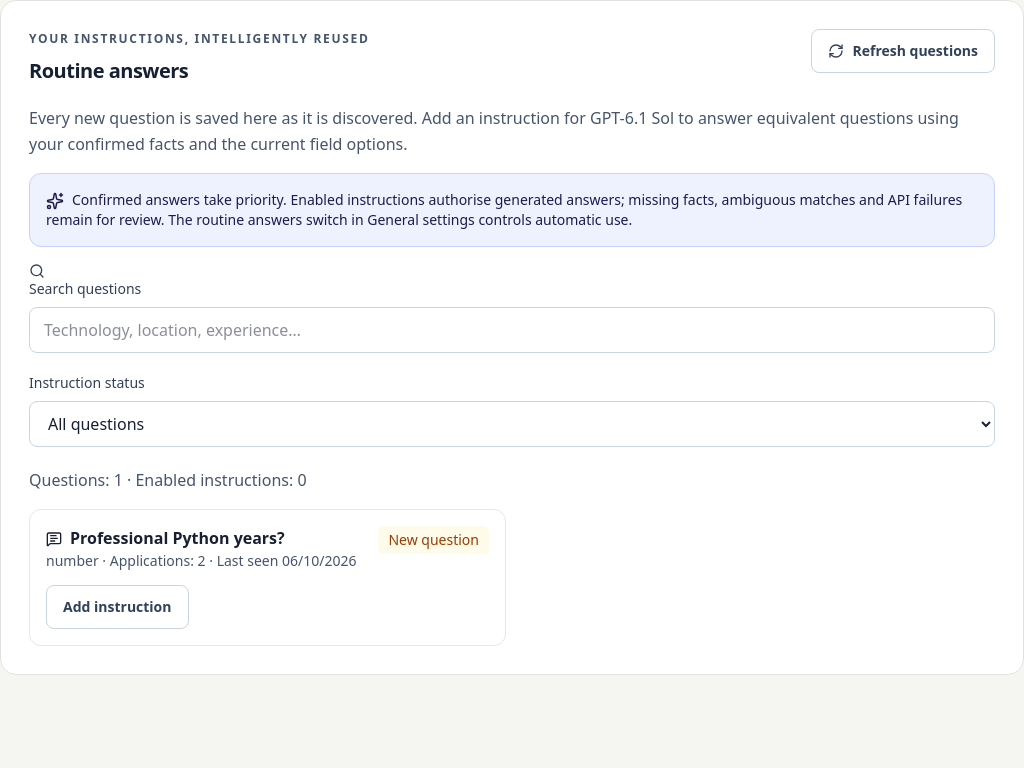
Test: displays missing-fact guidance while leaving explicit save under candidate control
Click the button "Add instruction".
click(117, 606)  # box [46, 584, 188, 628]
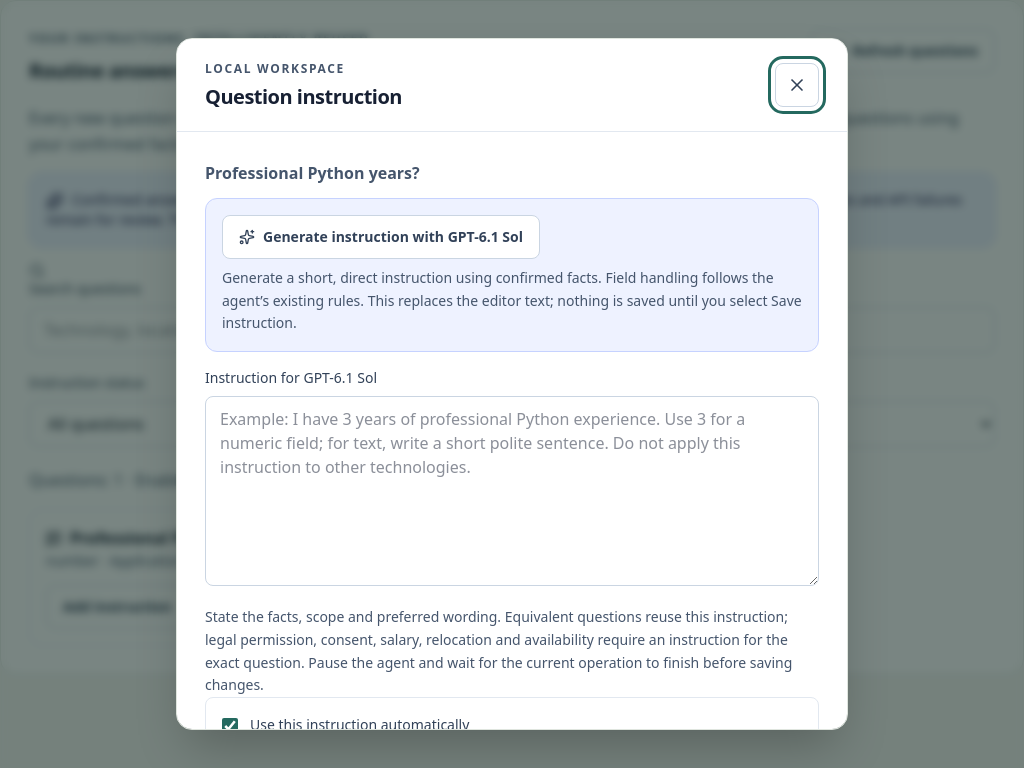
Click the button "Generate instruction with GPT-6.1 Sol".
click(381, 237)  # box [222, 215, 540, 259]
(page scrolled)
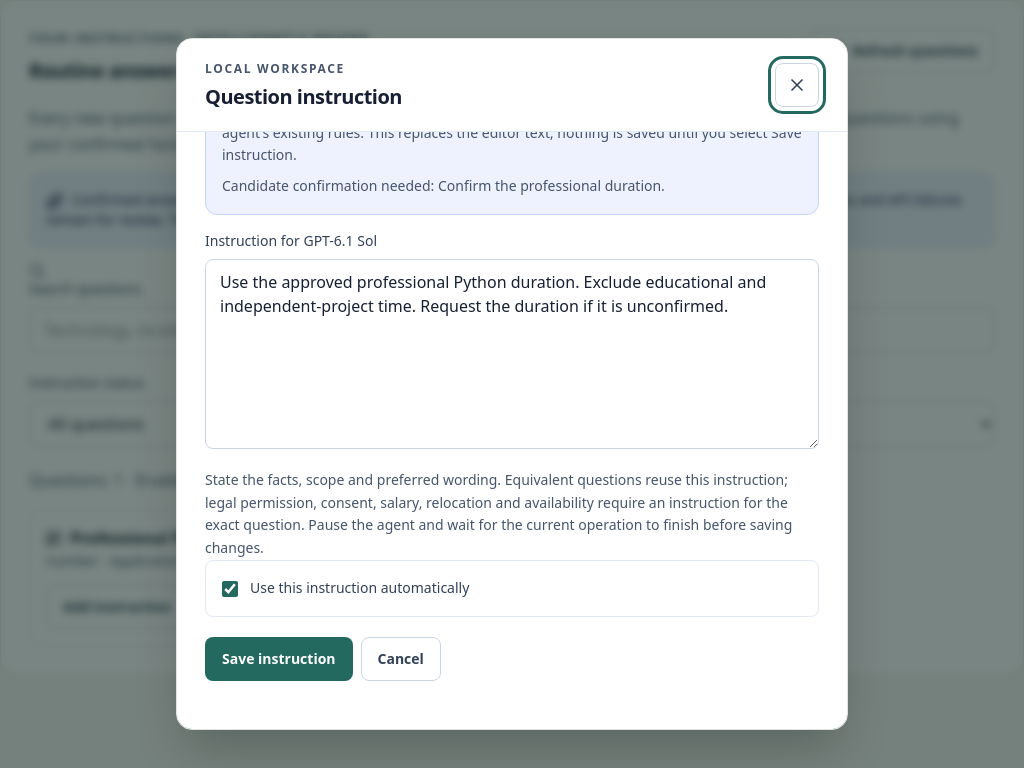
Result: the text "Candidate confirmation needed: Confirm the professional duration." is shown at [222, 176, 665, 195]
Result: the button "Save instruction" is enabled at [205, 637, 352, 681]
